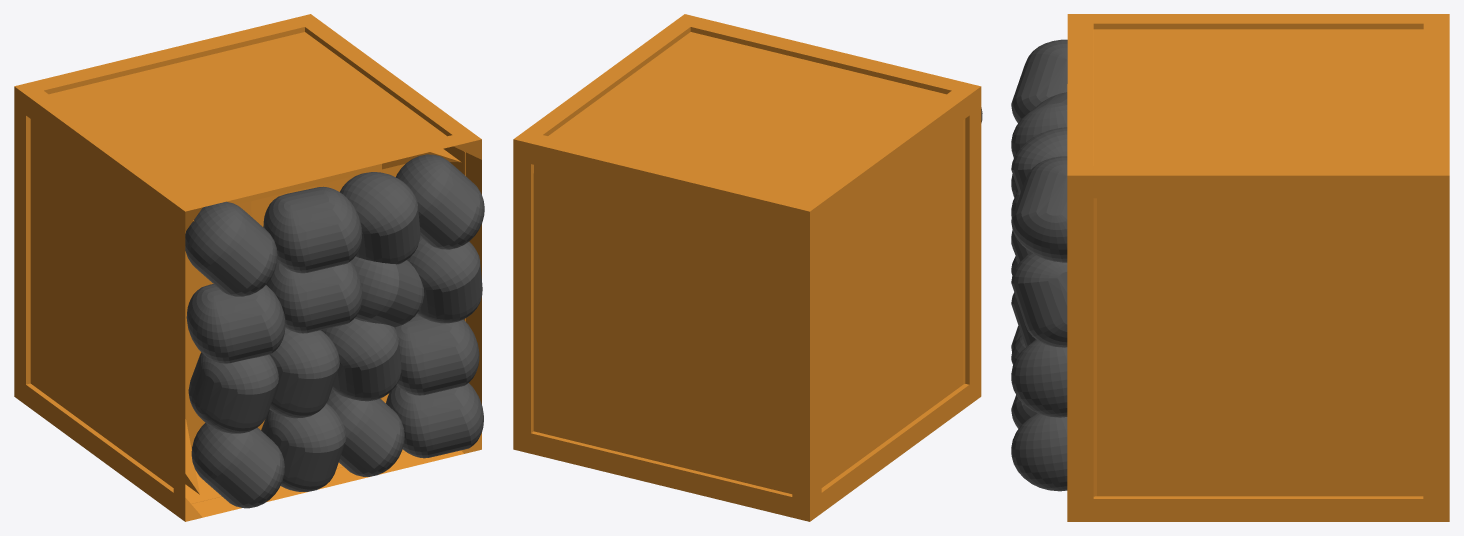
Rendered from eisen_klumpen.gltf.
3 renders of one model, left to right at view 1: azimuth 30°, elevation 25°; view 2: azimuth 150°, elevation 25°; view 3: azimuth 270°, elevation 25°, orthographic. The views are drawn at different scales.
Visible parts, largest first — view 1: Crate, Sphere.006, Sphere.001, Sphere.007, Sphere.003, Sphere.011, Sphere.002, Sphere.008, Sphere.014, Sphere.004, Sphere.009, Sphere.010 (+5 smaller); view 2: Crate; view 3: Crate, Sphere.002, Sphere.015, Sphere.004, Sphere.008, Sphere.001, Sphere.014, Sphere.006.
Boxes of the visible parts, x1,y1,x2,y2 form: Crate: [14, 14, 481, 521]; Sphere.006: [263, 186, 362, 273]; Sphere.001: [185, 201, 277, 296]; Sphere.007: [186, 284, 285, 363]; Sphere.003: [191, 423, 284, 508]; Sphere.011: [188, 352, 278, 433]; Sphere.002: [396, 154, 484, 249]; Sphere.008: [394, 314, 479, 395]; Sphere.014: [340, 172, 420, 264]; Sphere.004: [386, 383, 483, 458]; Sphere.009: [266, 261, 362, 333]; Sphere.010: [261, 403, 346, 491]; Crate: [513, 14, 981, 521]; Crate: [1067, 14, 1449, 521]; Sphere.002: [1011, 156, 1067, 262]; Sphere.015: [1011, 252, 1067, 347]; Sphere.004: [1011, 412, 1067, 491]; Sphere.008: [1011, 339, 1067, 417]; Sphere.001: [1011, 39, 1067, 122]; Sphere.014: [1011, 127, 1067, 194]; Sphere.006: [1011, 92, 1067, 157].
Bounding box in the file's own units: 0.3001 × 0.3 × 0.3442.
